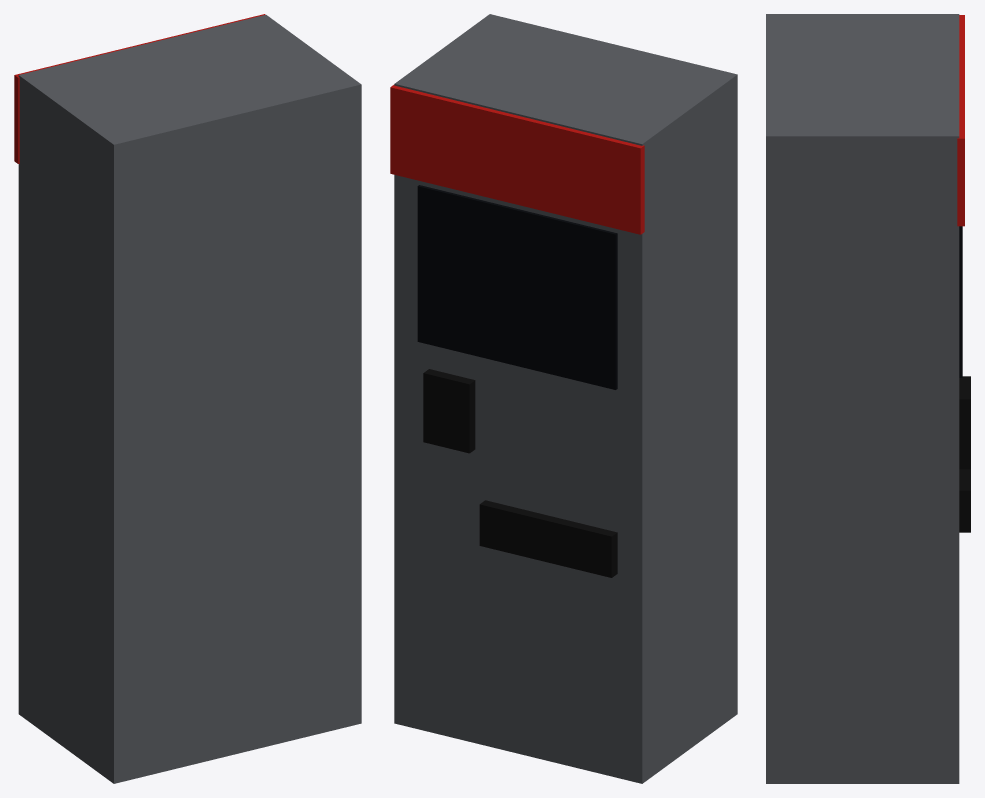
The model's file is station.rail.ticket_machine.glb.
3 views of the same model, side by side, from view 1: azimuth 30°, elevation 25°; view 2: azimuth 150°, elevation 25°; view 3: azimuth 270°, elevation 25° (orthographic).
Visible parts, largest first — view 1: main__plastic_grey, main__plastic_red; view 2: main__plastic_grey, main__screen, main__plastic_red, main__plastic_black; view 3: main__plastic_grey, main__plastic_black, main__plastic_red, main__screen.
Boxes of the visible parts, x1=… form: main__plastic_grey: x1=18, y1=15, x2=361, y2=783; main__plastic_red: x1=14, y1=14, x2=265, y2=163; main__plastic_grey: x1=394, y1=14, x2=737, y2=783; main__screen: x1=417, y1=185, x2=617, y2=389; main__plastic_red: x1=390, y1=85, x2=644, y2=234; main__plastic_black: x1=423, y1=369, x2=617, y2=577; main__plastic_grey: x1=766, y1=14, x2=959, y2=783; main__plastic_black: x1=959, y1=376, x2=970, y2=532; main__plastic_red: x1=957, y1=15, x2=964, y2=226; main__screen: x1=959, y1=226, x2=962, y2=377.
Bounding box in the file's own units: 0.758 × 1.85 × 0.53.
